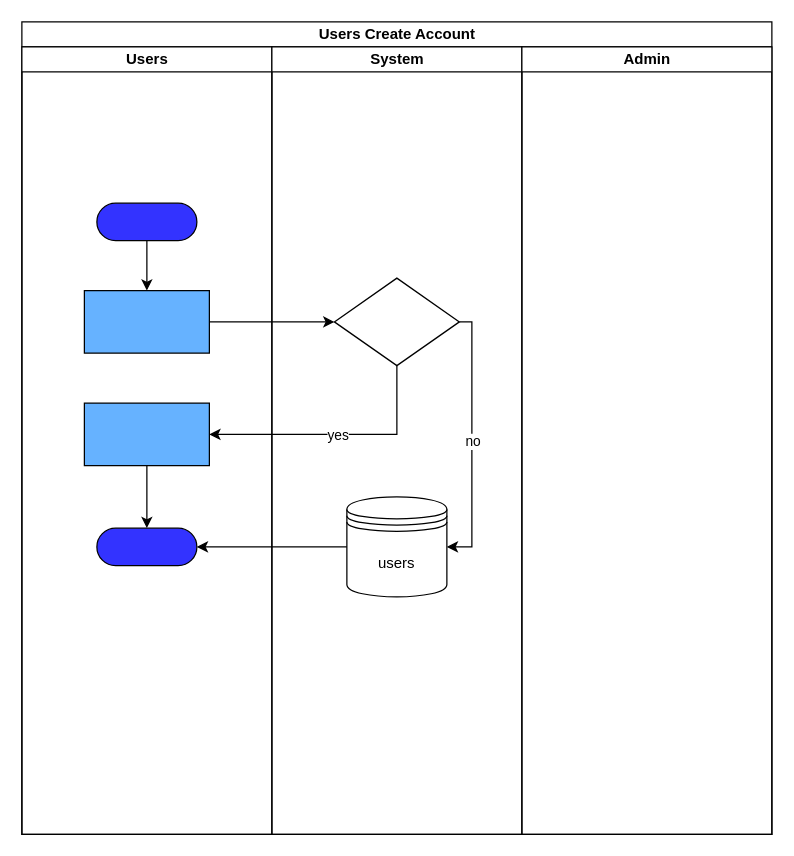
Some shapes in this 794 by 856 pixel diagram are drawn without their labels. The shapes that lost their labels are listed below. From the top down, each one's centre as x and y in pixels, then its label:
At point (146, 321): "create new account".
At point (396, 321): "account exist".
At point (146, 434): "to Log-in page".
